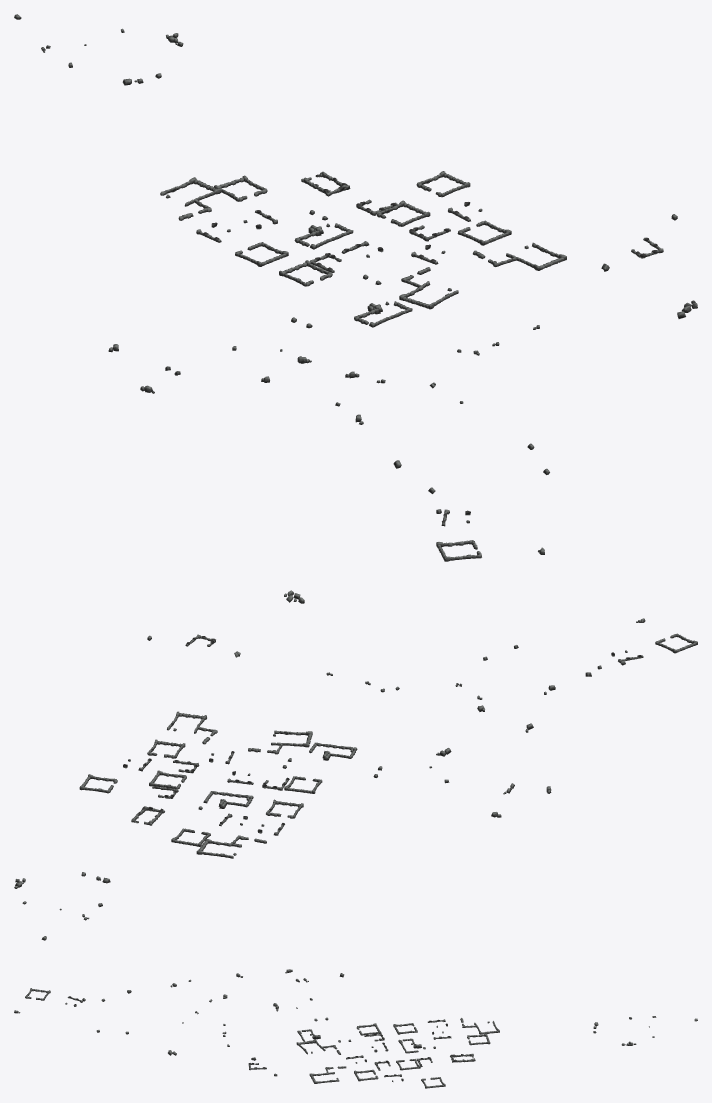
Rendered from LittleRockExport.FBX.
The picture shows the model from 3 angles, top to bottom: view 1: azimuth 30°, elevation 25°; view 2: azimuth 150°, elevation 25°; view 3: azimuth 270°, elevation 25°; orthographic projection. The views are drawn at different scales.
Visible parts, largest first — view 1: Object2852; view 2: Object2852; view 3: Object2852.
Boxes of the visible parts, <box> form: Object2852: <box>14,14,697,561</box>; Object2852: <box>14,590,697,940</box>; Object2852: <box>14,969,697,1088</box>.
Size of the model in its own units: 296 by 39.78 by 632.
